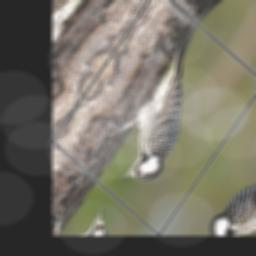Woodpecker: (88, 17, 235, 199)
